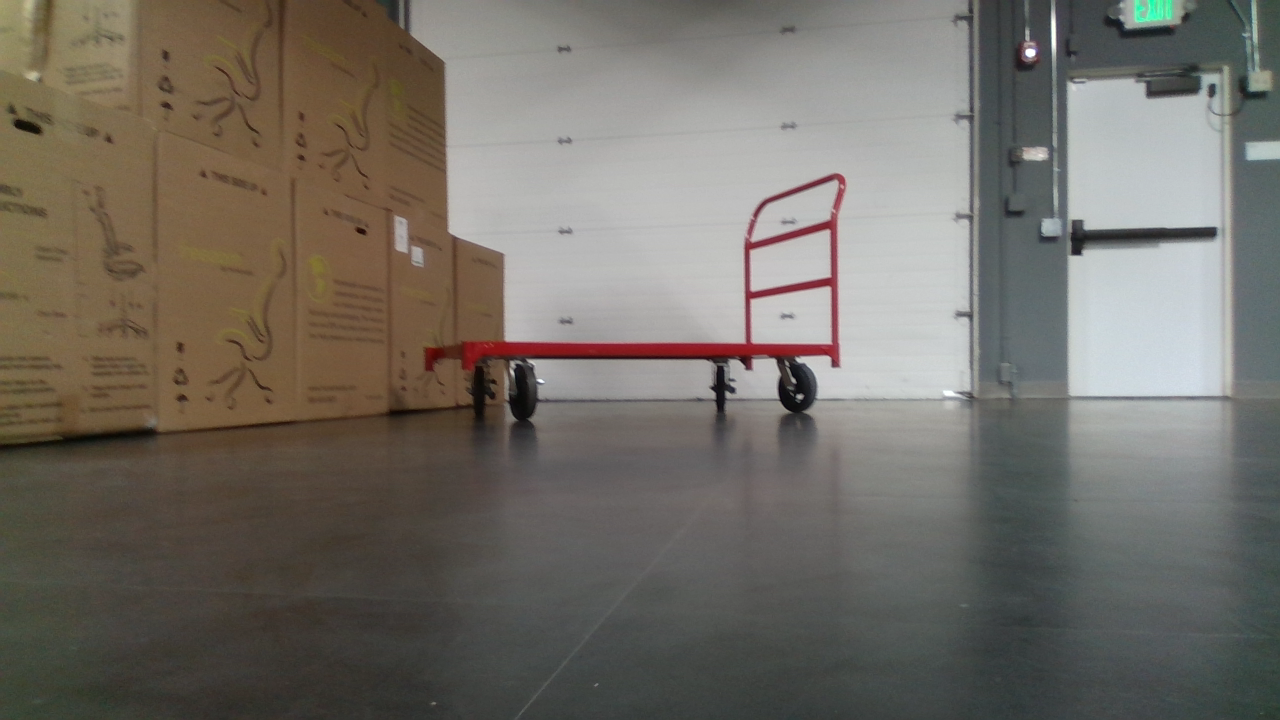Dolly: (414, 171, 857, 424)
Wheel: (772, 366, 827, 418), (505, 360, 544, 424), (466, 359, 491, 421), (709, 360, 737, 411)
